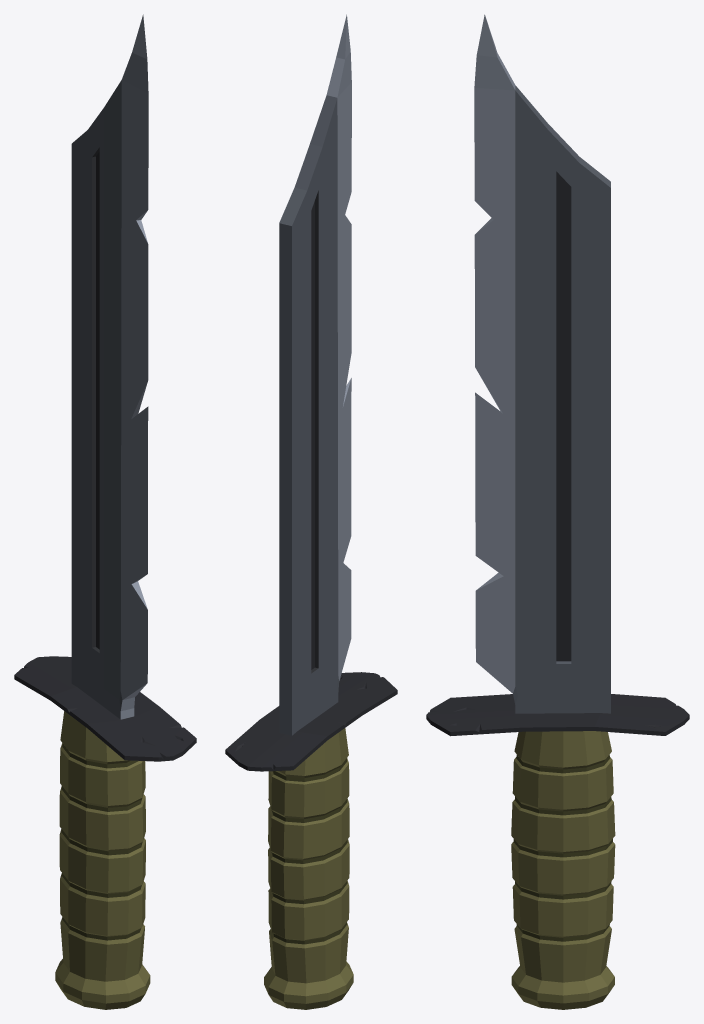
File: knife.glb
The picture shows the model from 3 angles, left to right: view 1: azimuth 30°, elevation 25°; view 2: azimuth 150°, elevation 25°; view 3: azimuth 270°, elevation 25°; orthographic projection. The views are drawn at different scales.
Visible parts, largest first — view 1: SM_Combat_Knife; view 2: SM_Combat_Knife; view 3: SM_Combat_Knife.
Boxes of the visible parts, <box> form: SM_Combat_Knife: <box>14,14,196,1009</box>; SM_Combat_Knife: <box>225,14,397,1009</box>; SM_Combat_Knife: <box>426,14,689,1009</box>.
Size of the model in its own units: 0.0366 by 0.4453 by 0.1085.
1 material, 1 textured.
